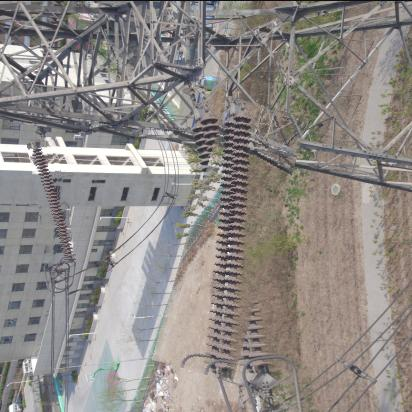insulator: (171, 99, 291, 380), (33, 137, 73, 267)
